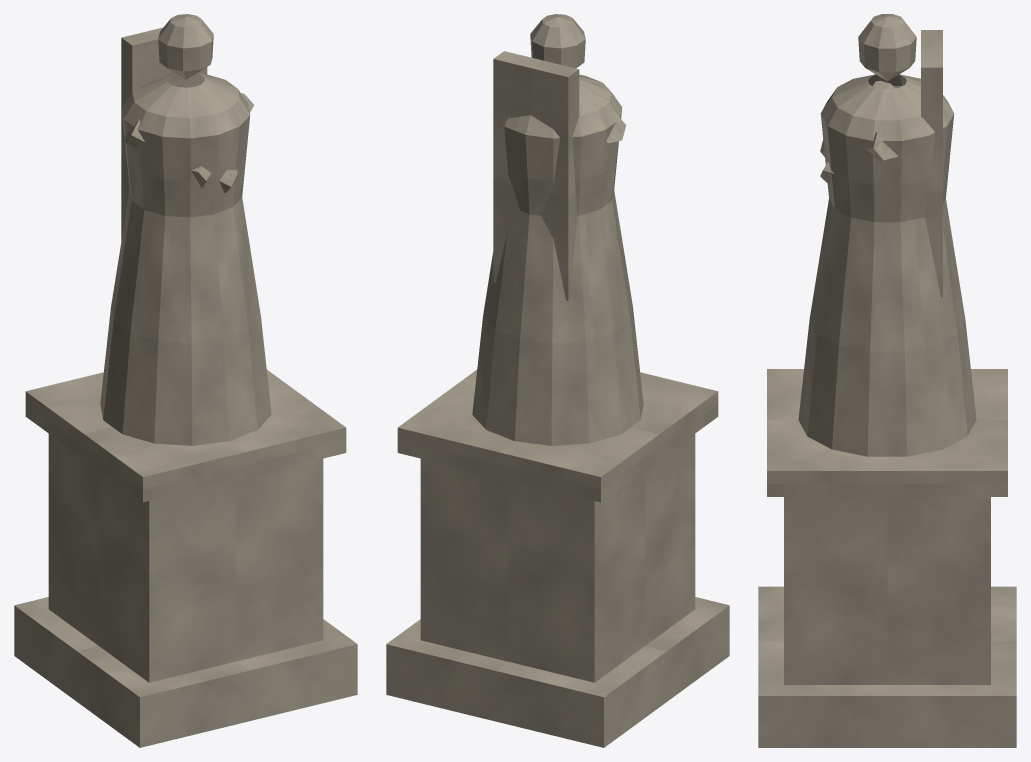
File: Statue_Garden_2.gltf
3 renders of one model, left to right at view 1: azimuth 30°, elevation 25°; view 2: azimuth 150°, elevation 25°; view 3: azimuth 270°, elevation 25°, orthographic. The views are drawn at different scales.
Visible parts, largest first — view 1: Statue_Garden_2; view 2: Statue_Garden_2; view 3: Statue_Garden_2.
Boxes of the visible parts, x1=… form: Statue_Garden_2: x1=14, y1=14, x2=357, y2=747; Statue_Garden_2: x1=386, y1=14, x2=729, y2=747; Statue_Garden_2: x1=758, y1=14, x2=1016, y2=747.
Size of the model in its own units: 0.9 by 2.6 by 0.9.
Materials: 1 (1 with a texture image).
